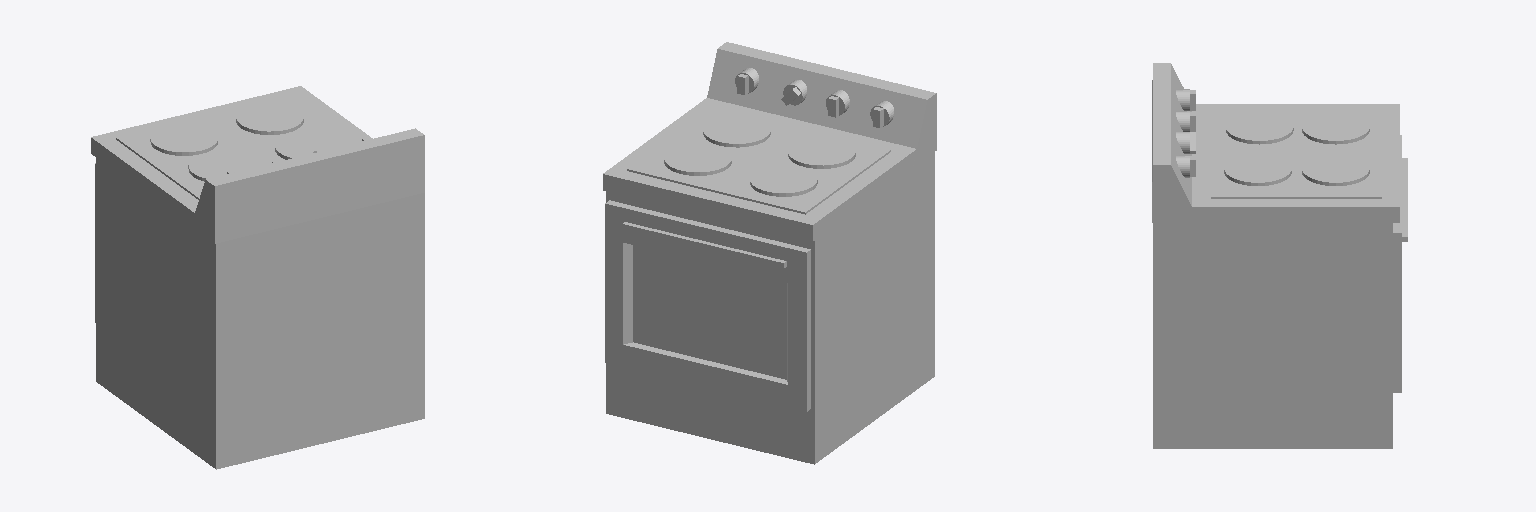
The model's file is ovenstove.obj.
The picture shows the model from 3 angles: view 1: azimuth 30°, elevation 25°; view 2: azimuth 150°, elevation 25°; view 3: azimuth 270°, elevation 25°; orthographic projection.
Parts seen in each view (by area): view 1: counter, uppercounter, lowercounter, heatcircles; view 2: counter, lowercounter, uppercounter, heatcircles; view 3: counter, lowercounter, heatcircles, uppercounter.
Part boxes in pixels (left/top/right/bottom): counter: left=96, top=158, right=424, bottom=469; uppercounter: left=191, top=128, right=424, bottom=243; lowercounter: left=91, top=86, right=372, bottom=322; heatcircles: left=150, top=103, right=342, bottom=181; counter: left=606, top=152, right=934, bottom=464; lowercounter: left=603, top=98, right=931, bottom=411; uppercounter: left=707, top=42, right=936, bottom=167; heatcircles: left=664, top=115, right=855, bottom=196; counter: left=1153, top=218, right=1392, bottom=448; lowercounter: left=1163, top=104, right=1407, bottom=392; heatcircles: left=1224, top=112, right=1369, bottom=185; uppercounter: left=1152, top=63, right=1191, bottom=222.
Bounding box in the file's own units: 3.82 × 4.93 × 4.03.